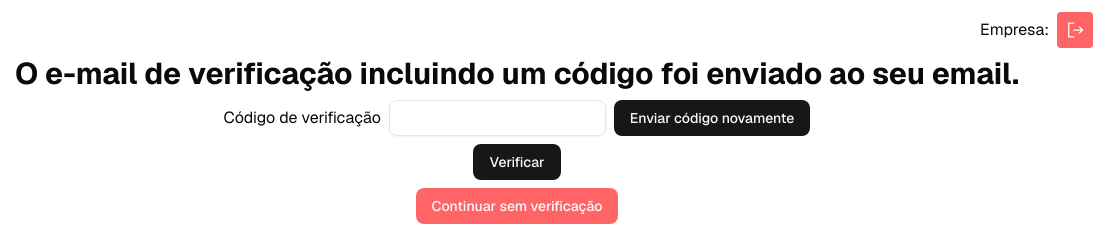
Scenario: VerifyForm › disables verify button while loading
The image size is (1105, 241).
Type "123456" into the field labelled "Código de verificação Enviar código novamente".
click(497, 118); type("123456")  # box [389, 100, 606, 136]
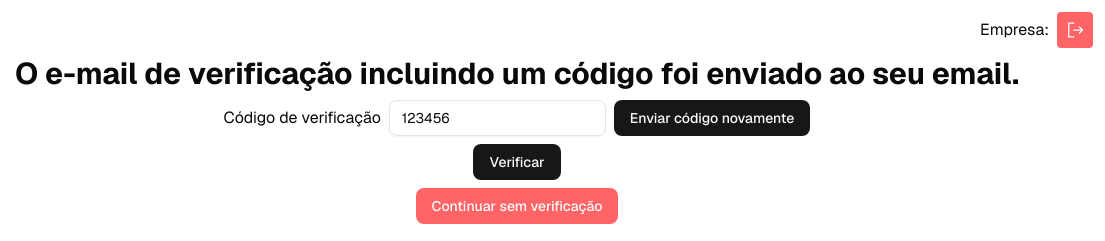
Click the button "Verificar".
click(517, 162)  # box [474, 144, 560, 180]
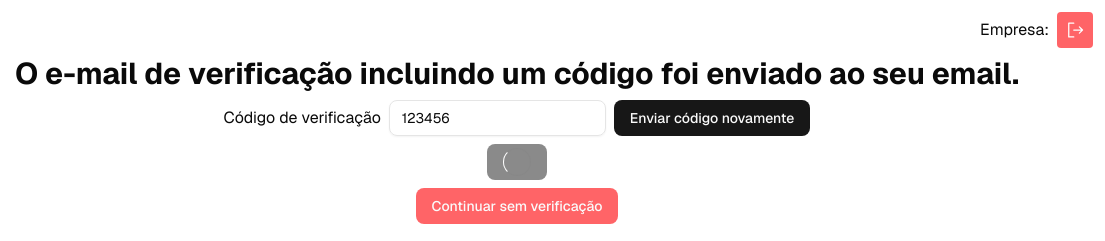
Expected: the button "Verificar" below "Código de verificação" is disabled, [487, 144, 547, 180]
